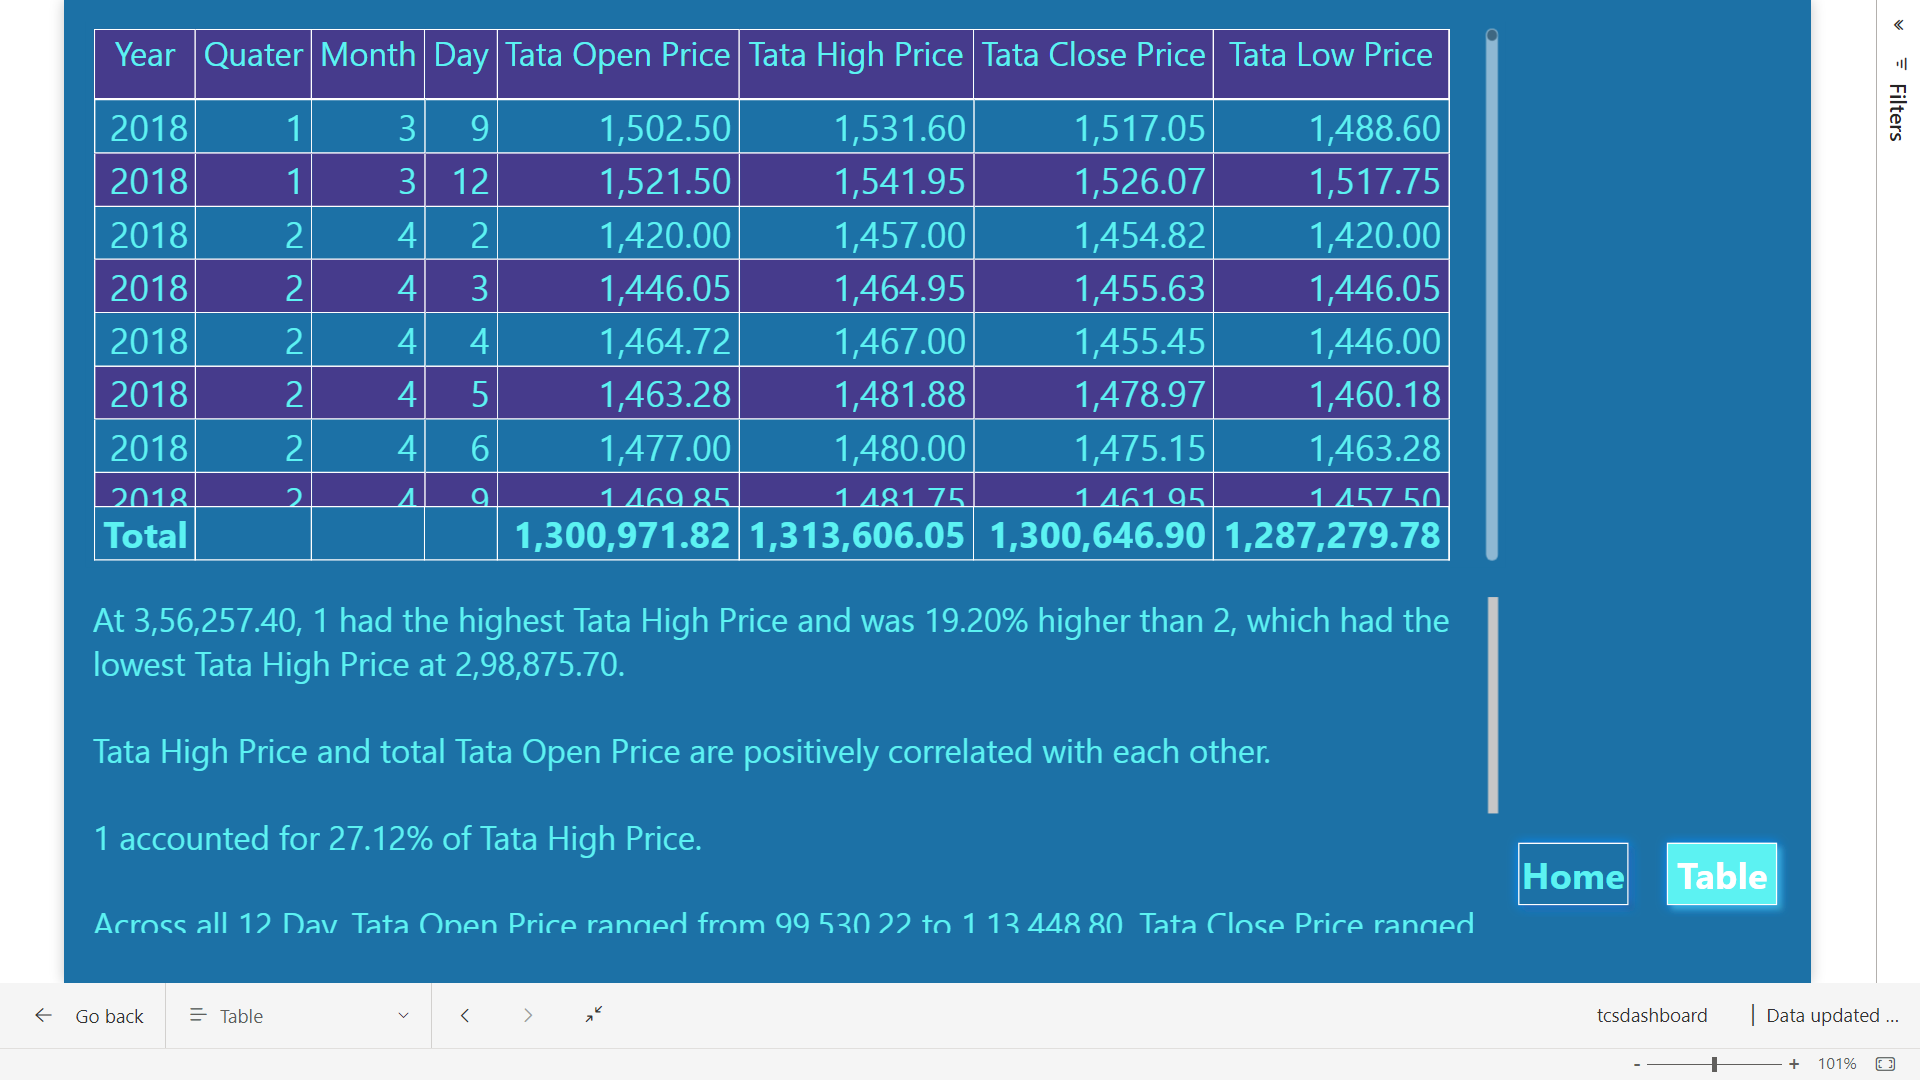

The page's visual inventory and layout, read from the dashboard file:
{"tool":"powerbi","page":{"name":"Table","canvas":[1280,720],"ordinal":1},"visuals":[{"type":"tableEx","fields":{"Values":["TCS NS.Year","TCS NS.Quater","TCS NS.Month","TCS NS.Day","Sum(TCS NS.Tata Open)","Sum(TCS NS.Tata High)","Sum(TCS NS.Tata Close)","Sum(TCS NS.Tata Low)"]},"box":[16,16,1040,400],"z":0},{"type":"textbox","box":[16,432,1040,256],"z":1},{"type":"pageNavigator","box":[1056,608,208,64],"z":2}]}

Visuals, with their boxes on the page's 1280x720 design canvas (x1, y1, x2, y2). These are canvas units, not pixel positions in the 1920x1080 screenshot, which may show the page scaled, cropped or inside an application window:
tableEx - TCS NS.Year x TCS NS.Quater: locate(16, 16, 1056, 416)
textbox: locate(16, 432, 1056, 688)
pageNavigator: locate(1056, 608, 1264, 672)
